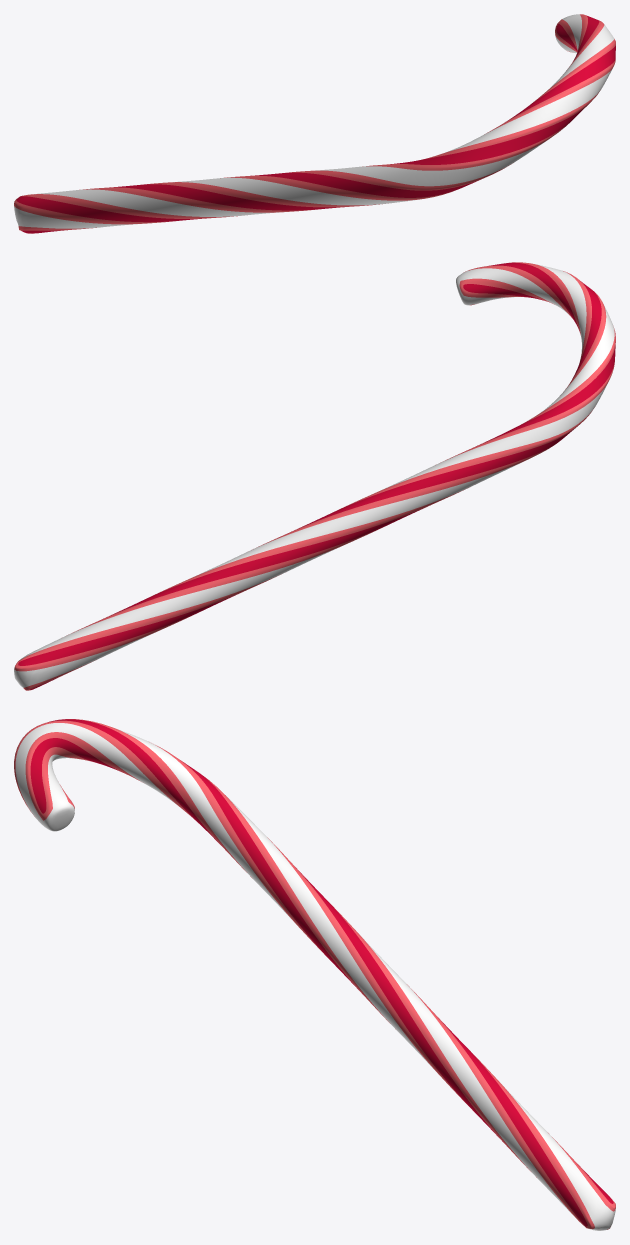
Rendered from CandyCane_anims.fbx.
3 renders of one model, top to bottom at view 1: azimuth 90°, elevation 25°; view 2: azimuth 150°, elevation 25°; view 3: azimuth 270°, elevation 25°, orthographic. The views are drawn at different scales.
Visible parts, largest first — view 1: Cane; view 2: Cane; view 3: Cane.
Part boxes in pixels (x1,y1,x2,y2): Cane: (14,14,615,233); Cane: (14,262,615,690); Cane: (14,719,615,1230).
Bounding box in the file's own units: 51.79 × 38.59 × 61.49.
